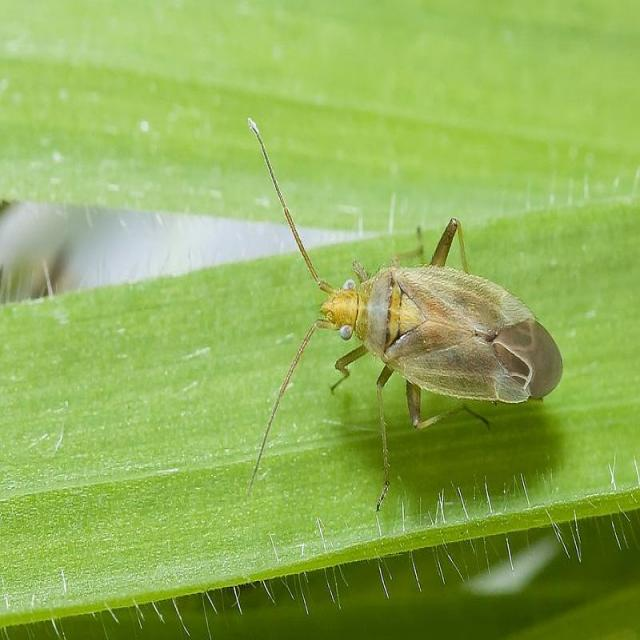Miridae-Adult-: (235, 100, 564, 516)
